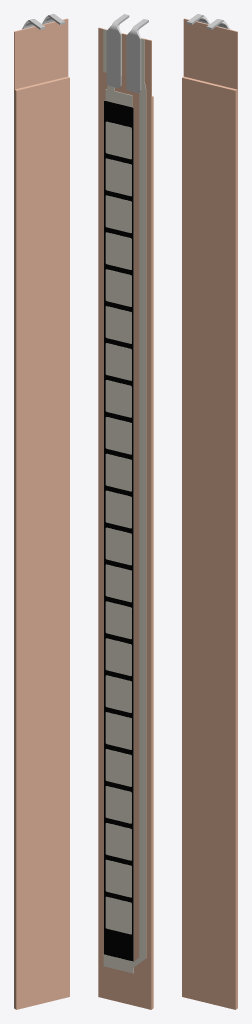
File: flex_sensor.fbx
3 renders of one model, left to right at view 1: azimuth 30°, elevation 25°; view 2: azimuth 150°, elevation 25°; view 3: azimuth 330°, elevation 25°, orthographic.
Parts seen in each view (by area): view 1: imagetostl_mesh0, imagetostl_mesh2; view 2: imagetostl_mesh3, imagetostl_mesh0, imagetostl_mesh4, imagetostl_mesh2; view 3: imagetostl_mesh0, imagetostl_mesh2.
Part boxes in pixels (x1,y1,x2,y2): imagetostl_mesh0: (14, 18, 69, 1009); imagetostl_mesh2: (21, 14, 65, 29); imagetostl_mesh3: (103, 29, 146, 973); imagetostl_mesh0: (98, 27, 153, 1009); imagetostl_mesh4: (104, 100, 133, 961); imagetostl_mesh2: (104, 14, 148, 92); imagetostl_mesh0: (182, 18, 237, 1009); imagetostl_mesh2: (186, 14, 231, 29).
Size of the model in its own units: 645 by 11346 by 277.
